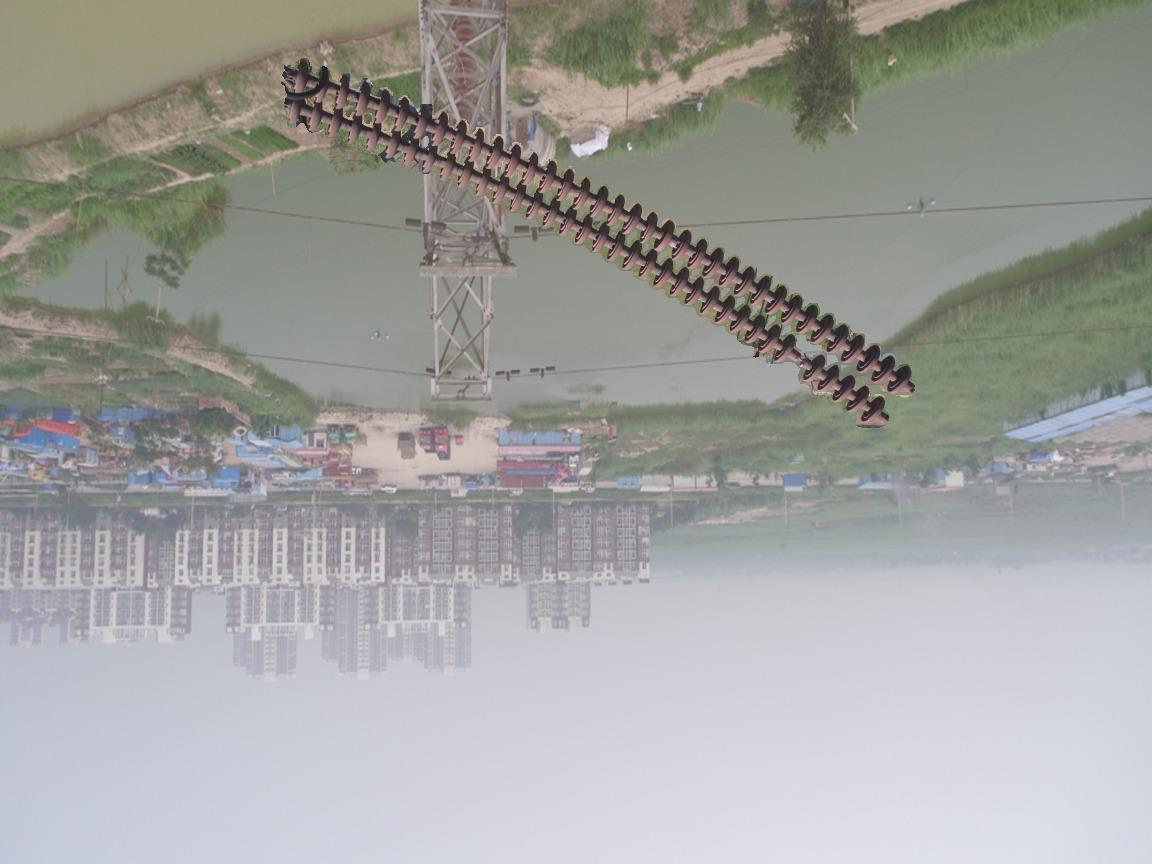insulator: (281, 58, 921, 435), (449, 1, 483, 120)
insulator_stringdrop: (769, 332, 828, 387)
